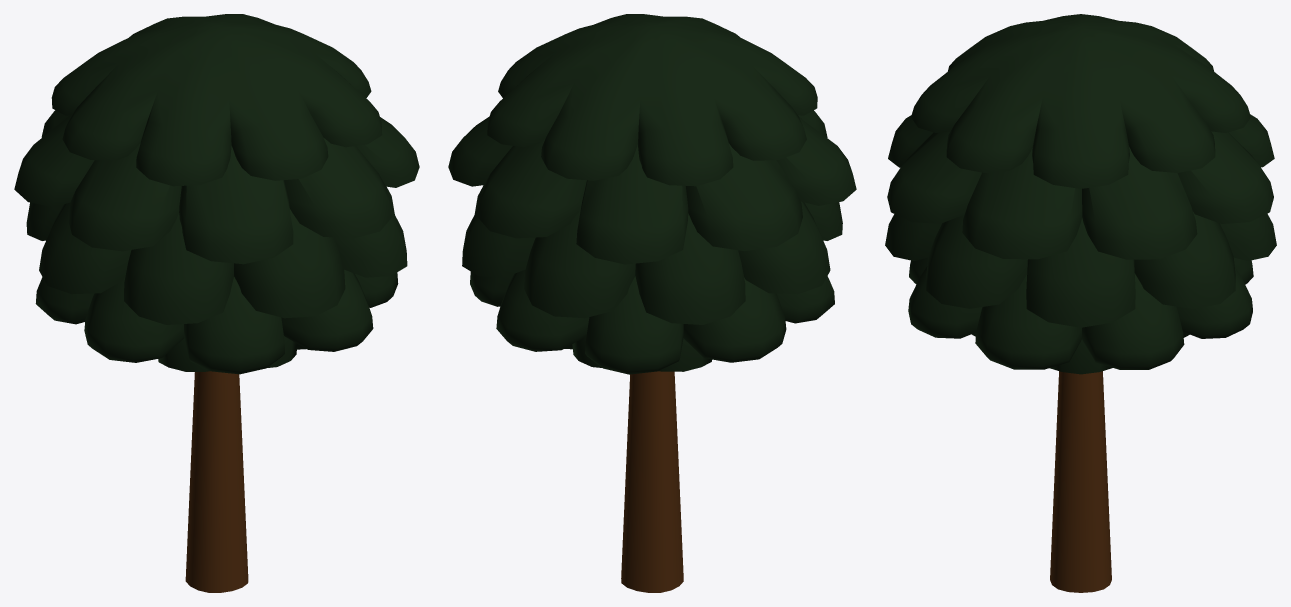
Rendered from Tree.fbx.
3 renders of one model, left to right at view 1: azimuth 30°, elevation 25°; view 2: azimuth 150°, elevation 25°; view 3: azimuth 270°, elevation 25°, orthographic.
Visible parts, largest first — view 1: Tree; view 2: Tree; view 3: Tree.
Boxes of the visible parts, x1,y1,x2,y2 form: Tree: [14, 14, 419, 592]; Tree: [448, 14, 856, 592]; Tree: [885, 14, 1276, 592].
Bounding box in the file's own units: 553 × 863 × 555.
